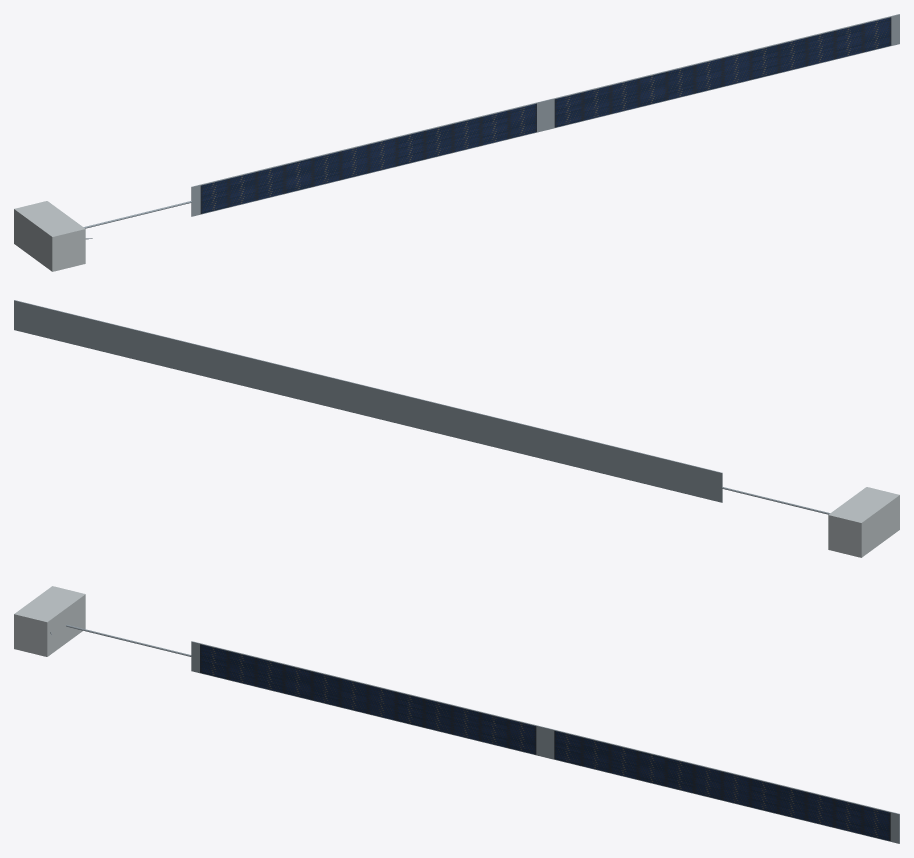
Rendered from ref-sn-100a-38847.glb.
3 renders of one model, top to bottom at view 1: azimuth 30°, elevation 25°; view 2: azimuth 150°, elevation 25°; view 3: azimuth 330°, elevation 25°, orthographic.
Visible parts, largest first — view 1: Photovoltaic laminates (×2), Spacecraft body, Array frame (×2); view 2: Array frame (×2), Spacecraft body; view 3: Photovoltaic laminates (×2), Spacecraft body, Array frame (×2).
Part boxes in pixels (x1=…): Photovoltaic laminates (×2): x1=200, y1=17, x2=891, y2=213; Spacecraft body: x1=14, y1=201, x2=85, y2=271; Array frame (×2): x1=191, y1=14, x2=899, y2=216; Array frame (×2): x1=14, y1=300, x2=722, y2=502; Spacecraft body: x1=828, y1=487, x2=899, y2=557; Photovoltaic laminates (×2): x1=200, y1=644, x2=890, y2=840; Spacecraft body: x1=14, y1=586, x2=85, y2=656; Array frame (×2): x1=191, y1=641, x2=899, y2=843.
Size of the model in its own units: 13 by 0.5 by 1.03.
3 materials, 1 textured.
